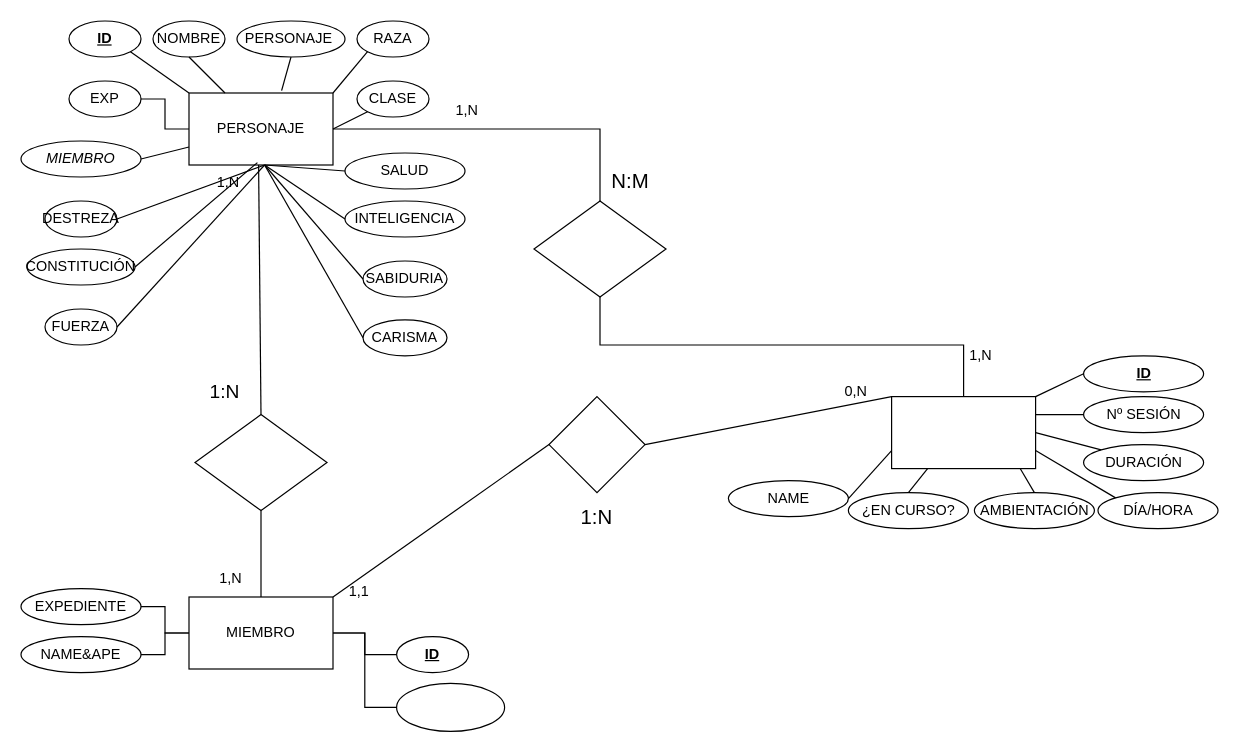
Some shapes in this 1240 by 752 pixel diagram are drawn without their labels. Here are the shapes that lost their labels. From the top down, the centre of each, then its label:
pixel 599 248: JUEGA
pixel 596 444: DIRIGE
pixel 963 432: PARTIDA
pixel 260 462: TIENE
pixel 450 706: ESTUDIO
